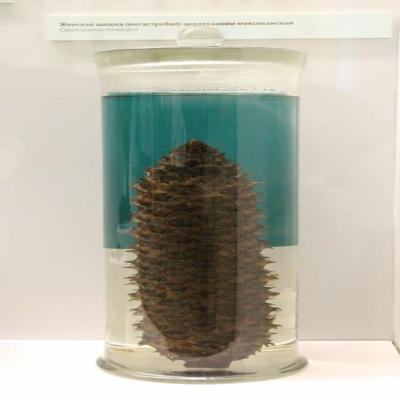natural_science_collection: (133, 140, 280, 373)
